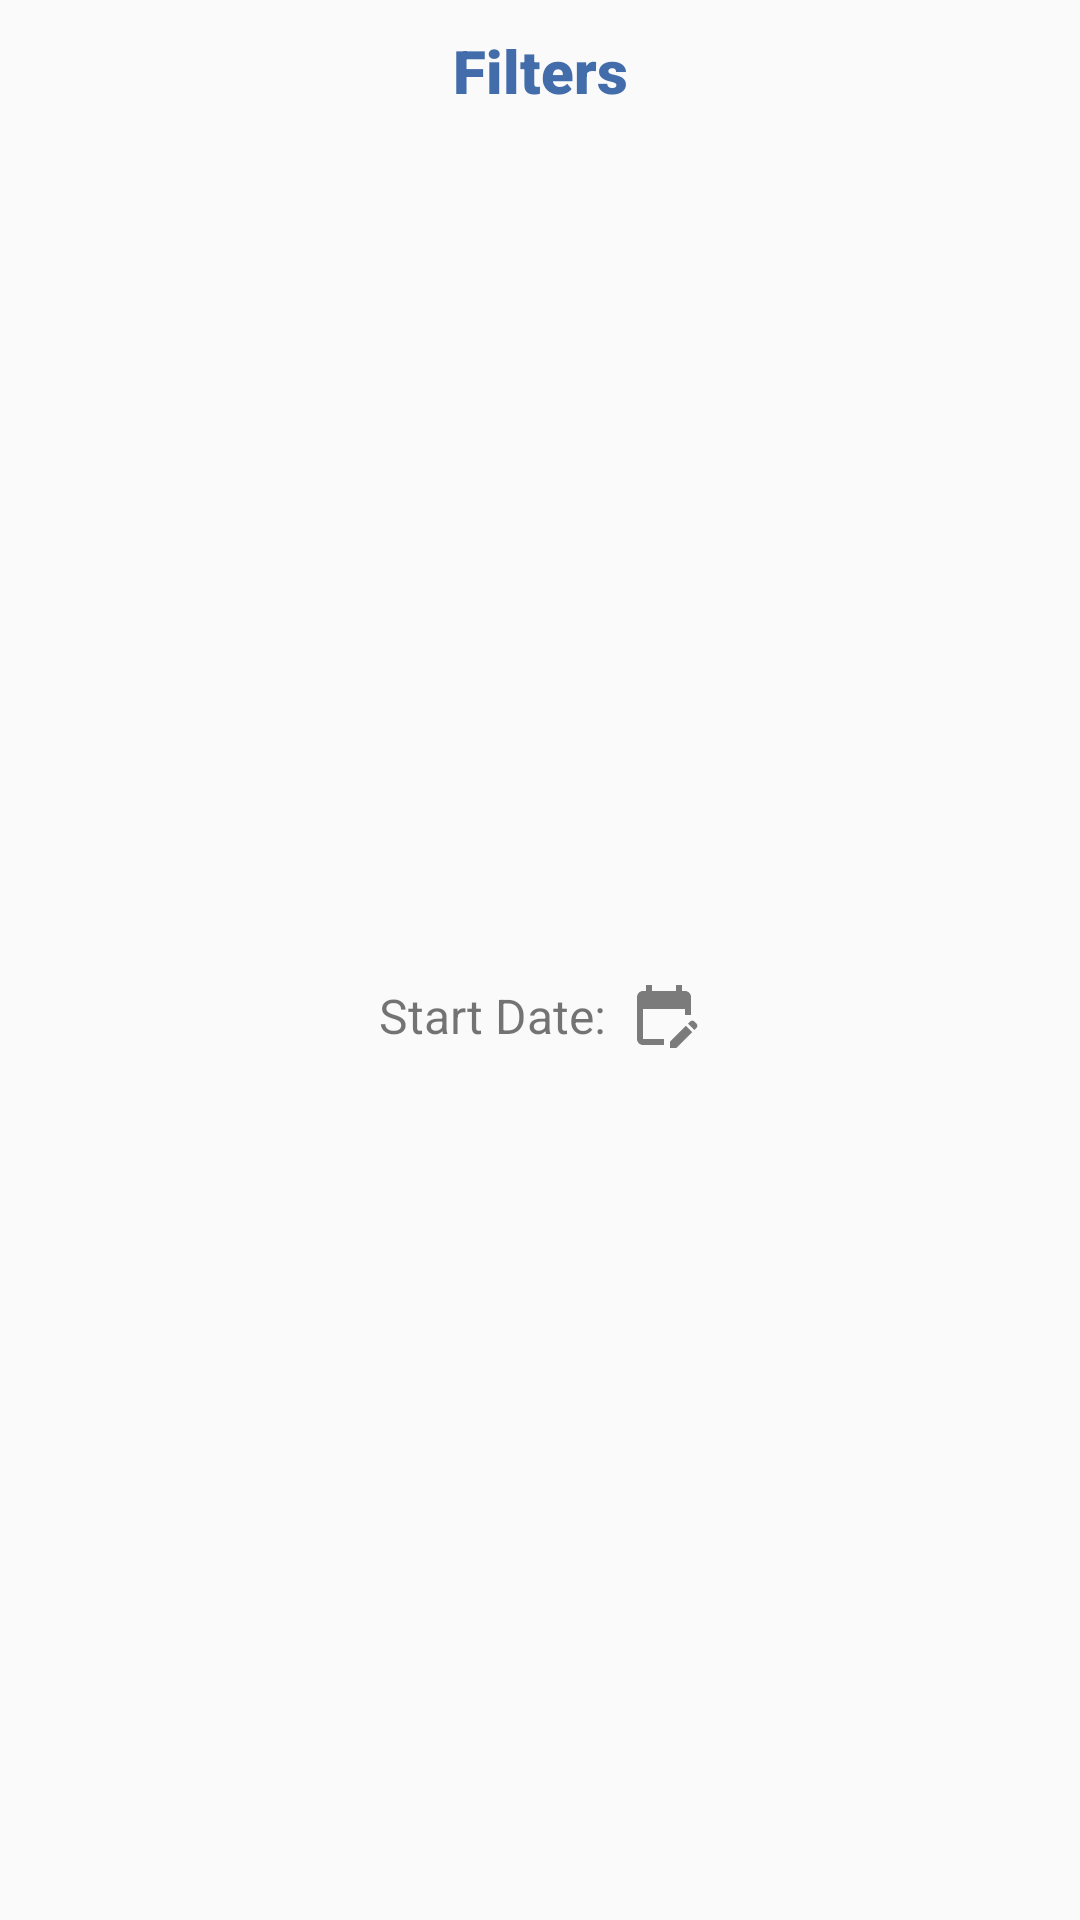

Icons on this 1080×1920 Android screen, each with its box as (x1, y1, x2, y2):
edit calendar: (637, 985, 698, 1048)
